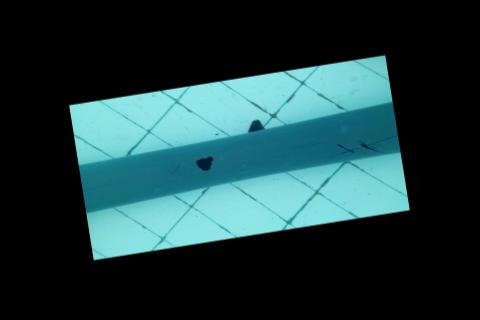kebocoran: (193, 153, 217, 172)
keretakan: (327, 131, 400, 160)
